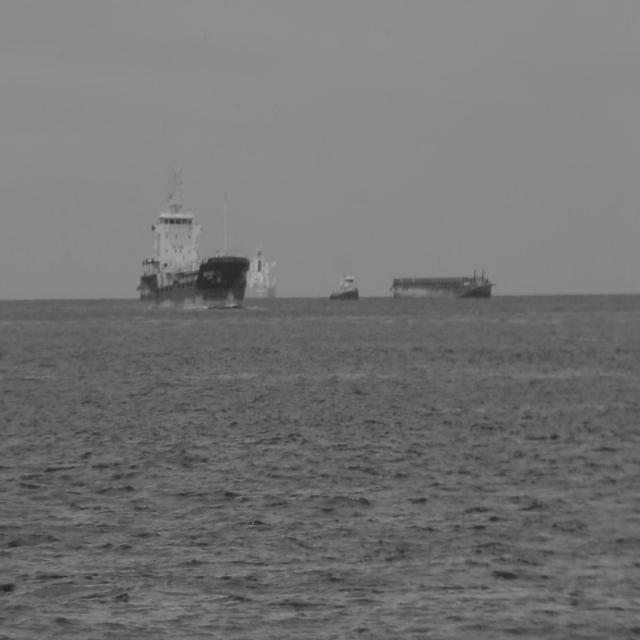ship: (134, 166, 250, 308), (387, 270, 494, 300), (248, 248, 278, 298)
